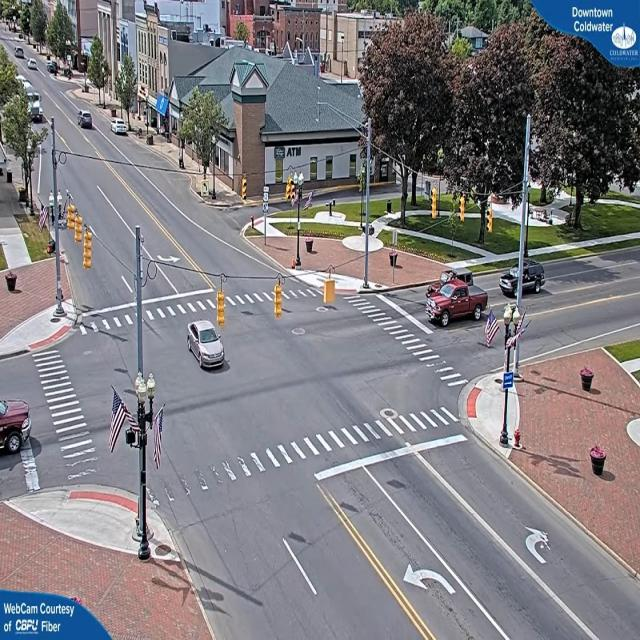car: (425, 276, 491, 327), (186, 320, 226, 370), (505, 263, 546, 298), (112, 121, 130, 137), (80, 112, 94, 130), (16, 48, 27, 60), (28, 60, 37, 70)
